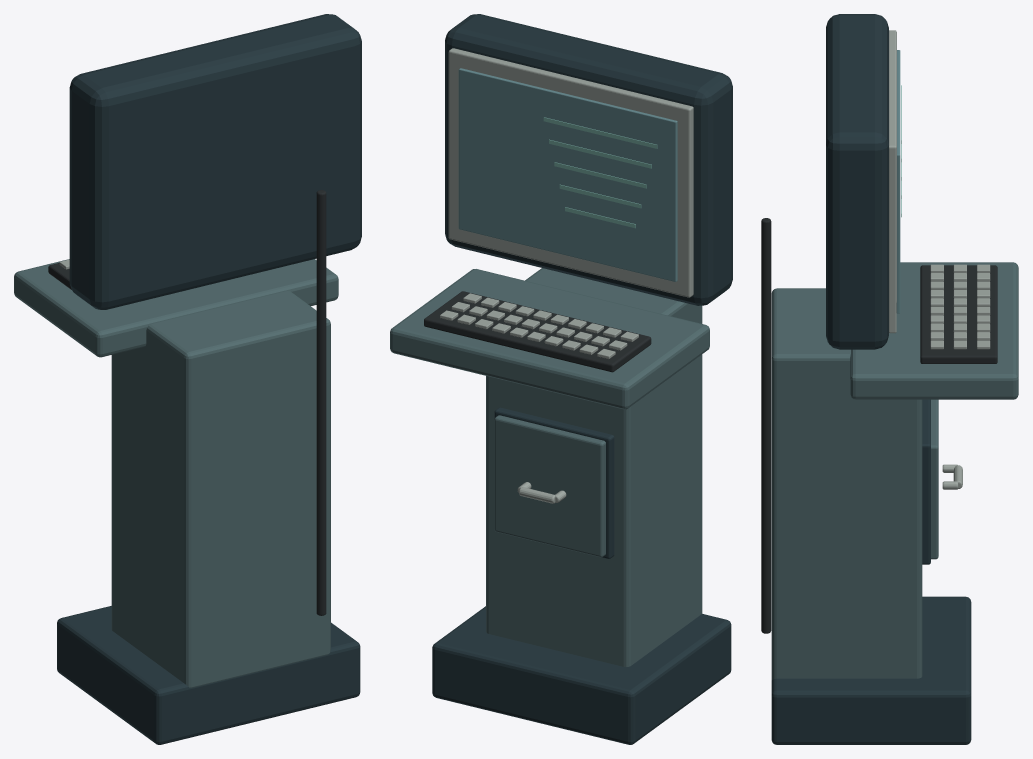
File: terminal.fbx
3 renders of one model, left to right at view 1: azimuth 30°, elevation 25°; view 2: azimuth 150°, elevation 25°; view 3: azimuth 270°, elevation 25°, orthographic. The views are drawn at different scales.
Visible parts, largest first — view 1: terminal; view 2: terminal; view 3: terminal.
Part boxes in pixels (x1=…): terminal: x1=14, y1=14, x2=361, y2=744; terminal: x1=390, y1=14, x2=732, y2=744; terminal: x1=761, y1=14, x2=1018, y2=744.
Bounding box in the file's own units: 87 × 197 × 73.4.
